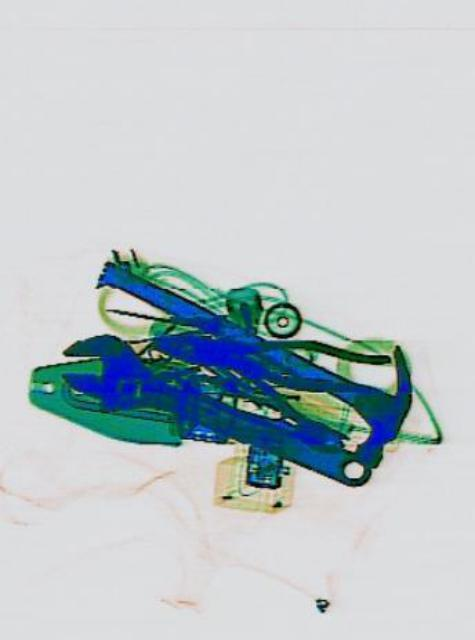Pliers: (147, 312, 390, 402)
Wrench: (48, 314, 377, 518)
